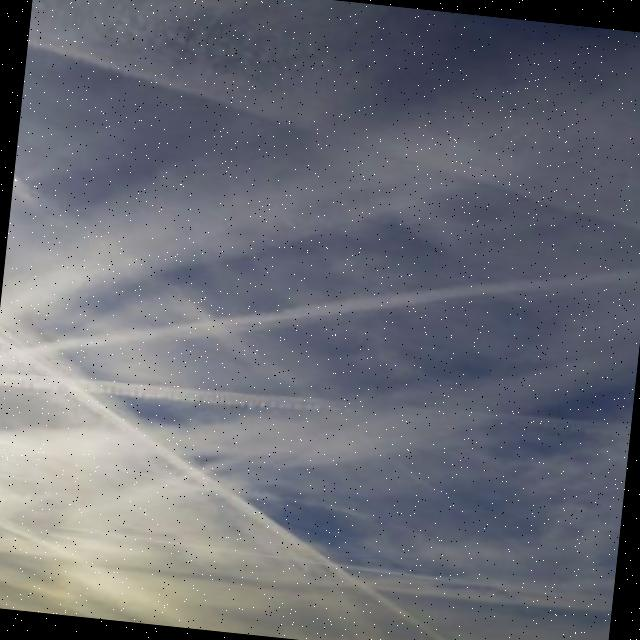Ct: (1, 1, 640, 585)
